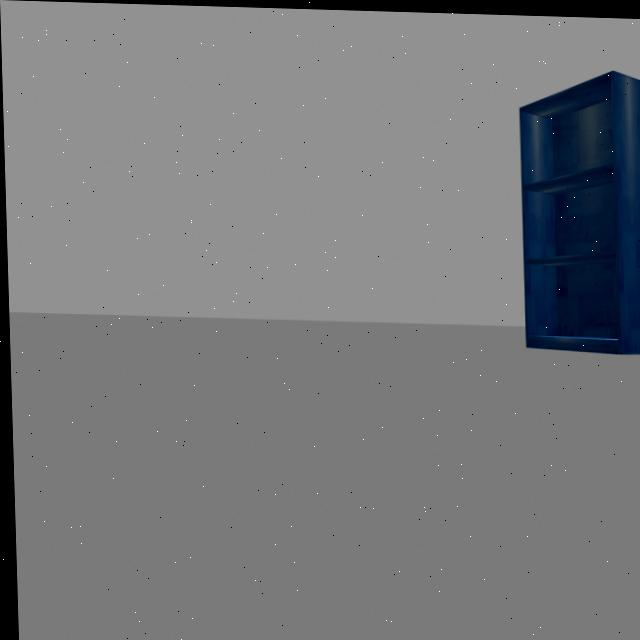shelf: (509, 57, 640, 368)
